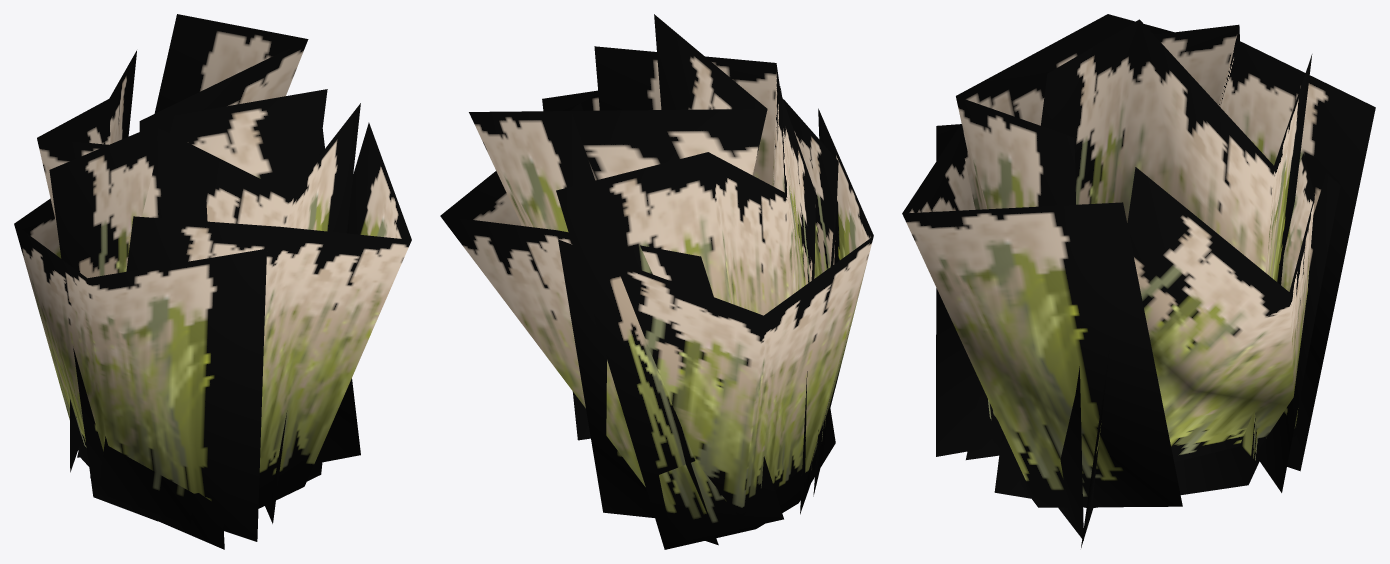
File: Helictotrichon.fbx
3 views of the same model, side by side, from view 1: azimuth 30°, elevation 25°; view 2: azimuth 150°, elevation 25°; view 3: azimuth 270°, elevation 25° (orthographic). The views are drawn at different scales.
Visible parts, largest first — view 1: Helictotrichon; view 2: Helictotrichon; view 3: Helictotrichon.
Boxes of the visible parts, <box> form: Helictotrichon: <box>14,14,411,549</box>; Helictotrichon: <box>440,14,873,549</box>; Helictotrichon: <box>902,14,1375,547</box>.
Size of the model in its own units: 58.01 by 68.73 by 63.41.
